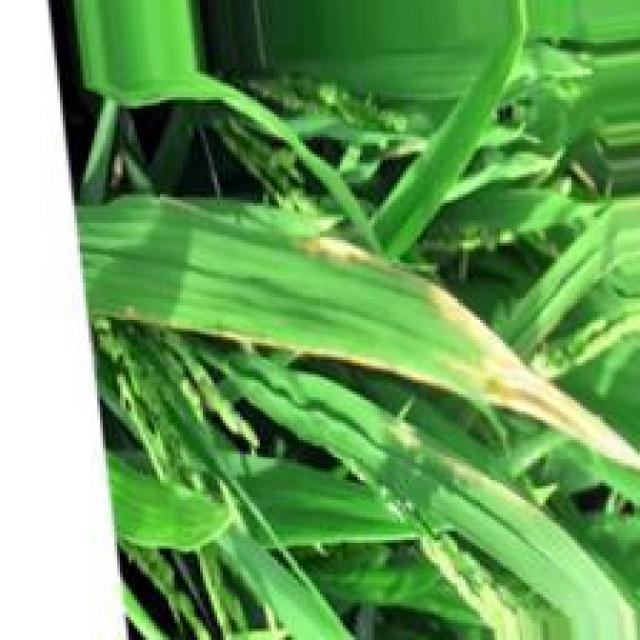Unhealthy: (423, 288, 640, 473), (305, 239, 379, 260)
